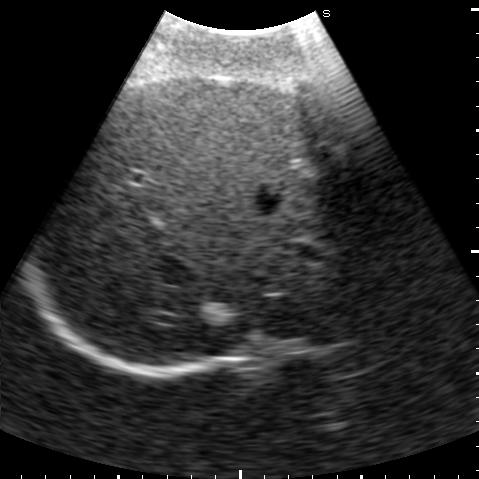S5: (103, 80, 326, 188)
S7: (37, 153, 146, 293)
S8: (91, 178, 358, 364)
Tumor: (201, 302, 235, 326)
